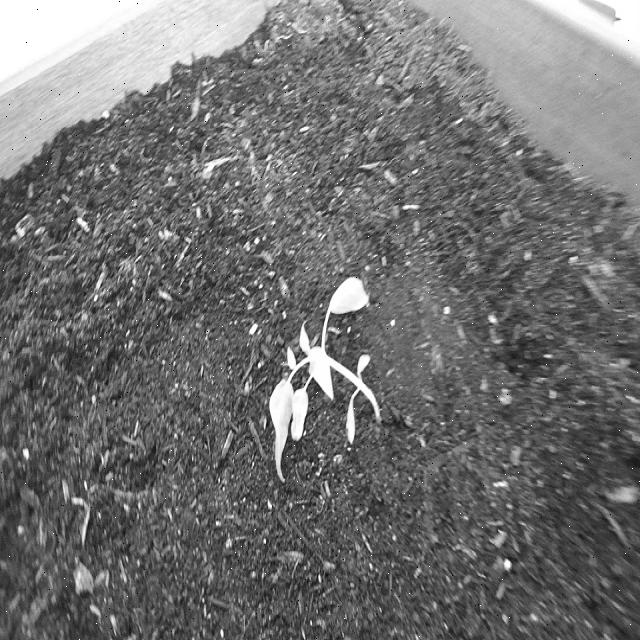Unhealthy: (250, 240, 406, 486)
